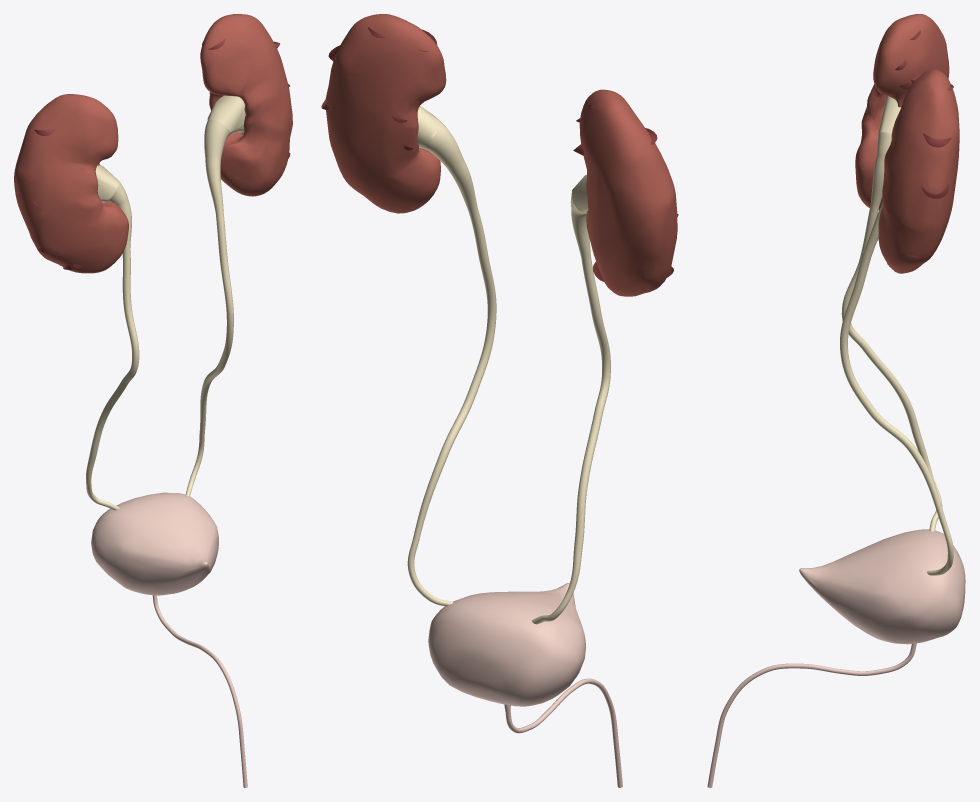
The picture shows the model from 3 angles, left to right: view 1: azimuth 30°, elevation 25°; view 2: azimuth 150°, elevation 25°; view 3: azimuth 270°, elevation 25°; orthographic projection. The views are drawn at different scales.
Parts seen in each view (by area): view 1: Kidney_Right, Kidney_Left, Uri_Urinary_Bladder, Uri_Ureter_Left, Uri_Ureter_Right, Uri_Urethra, Kidney_Renal_Pelvis_Left, Kidney_Renal_Pelvis_Right; view 2: Kidney_Left, Kidney_Right, Uri_Urinary_Bladder, Uri_Ureter_Left, Uri_Ureter_Right, Uri_Urethra, Kidney_Renal_Pelvis_Left; view 3: Uri_Urinary_Bladder, Kidney_Left, Kidney_Right, Uri_Ureter_Left, Uri_Ureter_Right, Uri_Urethra, Kidney_Renal_Pelvis_Right.
Boxes of the visible parts, <box> form: Kidney_Right: <box>14,94,128,273</box>; Kidney_Left: <box>200,14,292,196</box>; Uri_Urinary_Bladder: <box>91,492,218,595</box>; Uri_Ureter_Left: <box>185,119,233,496</box>; Uri_Ureter_Right: <box>86,181,139,510</box>; Uri_Urethra: <box>152,595,247,787</box>; Kidney_Renal_Pelvis_Left: <box>207,95,245,134</box>; Kidney_Renal_Pelvis_Right: <box>95,165,118,202</box>; Kidney_Left: <box>325,14,446,213</box>; Kidney_Right: <box>579,89,677,296</box>; Uri_Urinary_Bladder: <box>428,583,585,706</box>; Uri_Ureter_Left: <box>407,121,496,606</box>; Uri_Ureter_Right: <box>532,196,610,624</box>; Uri_Urethra: <box>504,678,622,787</box>; Kidney_Renal_Pelvis_Left: <box>417,106,440,148</box>; Uri_Urinary_Bladder: <box>799,529,965,644</box>; Kidney_Left: <box>878,69,959,273</box>; Kidney_Right: <box>855,14,949,209</box>; Uri_Ureter_Left: <box>840,202,953,575</box>; Uri_Ureter_Right: <box>841,132,942,531</box>; Uri_Urethra: <box>707,643,916,787</box>; Kidney_Renal_Pelvis_Right: <box>878,96,900,134</box>.
Size of the model in its own units: 0.1795 by 0.4203 by 0.1293.
